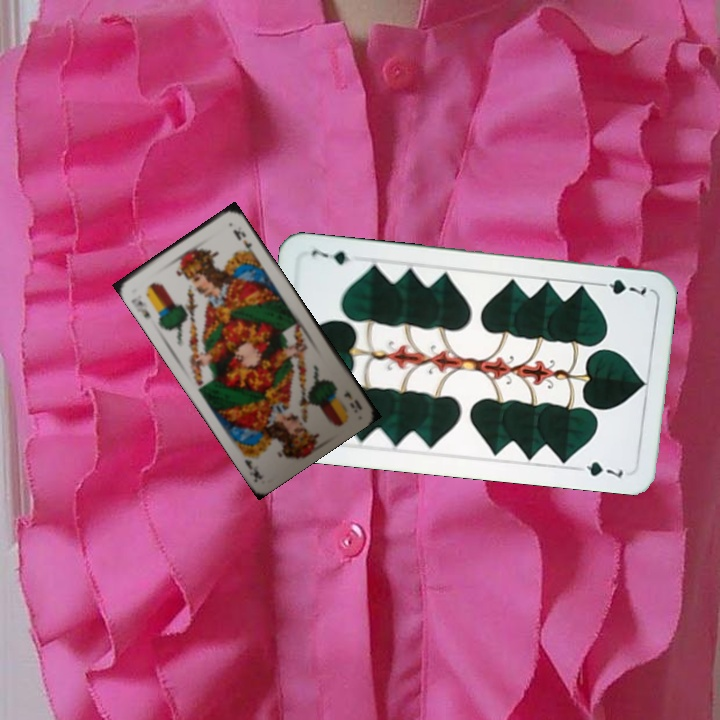EK: (127, 295, 154, 321), (340, 387, 365, 412)
G7: (592, 275, 649, 298)
